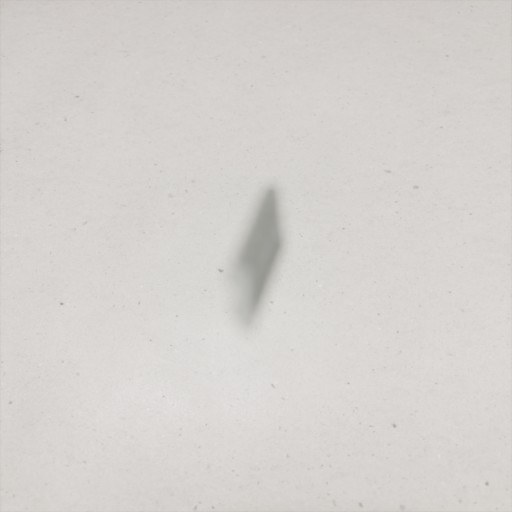lego: (224, 183, 287, 336)
